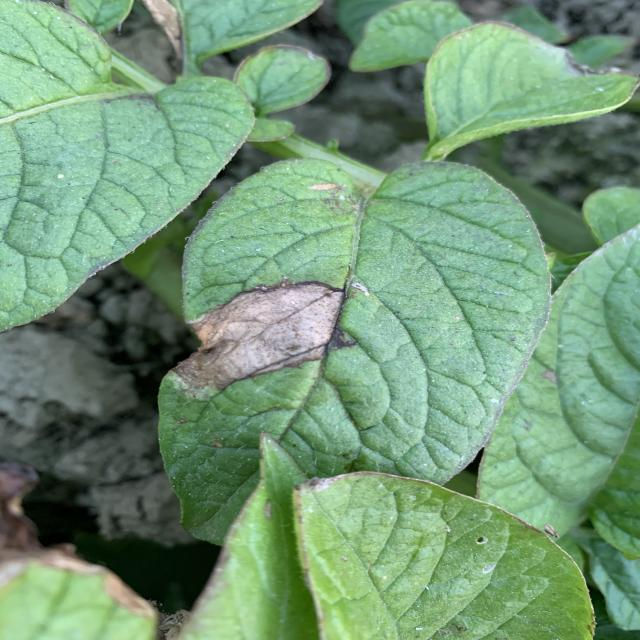lateblight: (172, 281, 345, 396)
